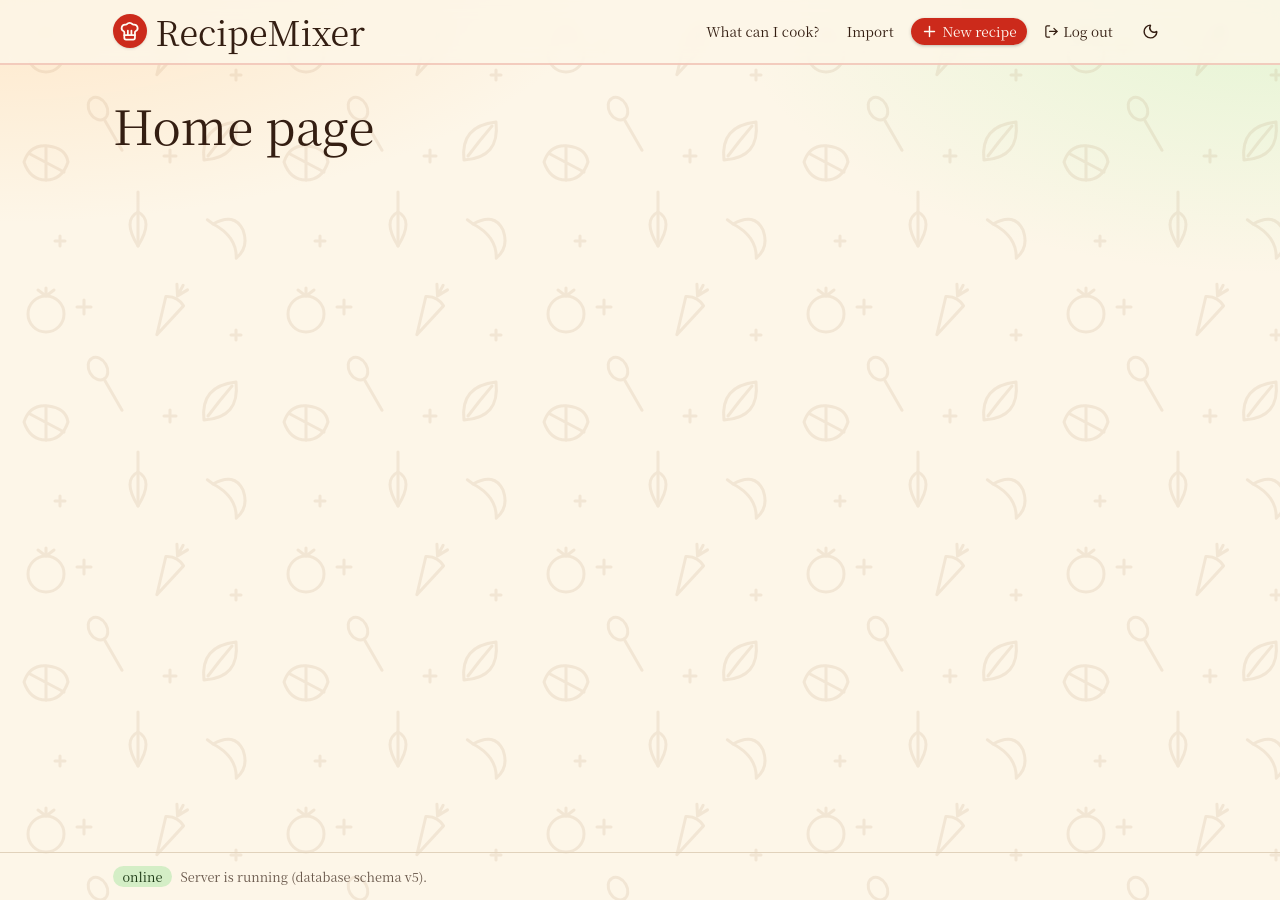
Test: Layout log out › says so, rather than pretending, when the server could not be told
Click the button "Log out" at (1078, 32), box [1032, 17, 1124, 46]
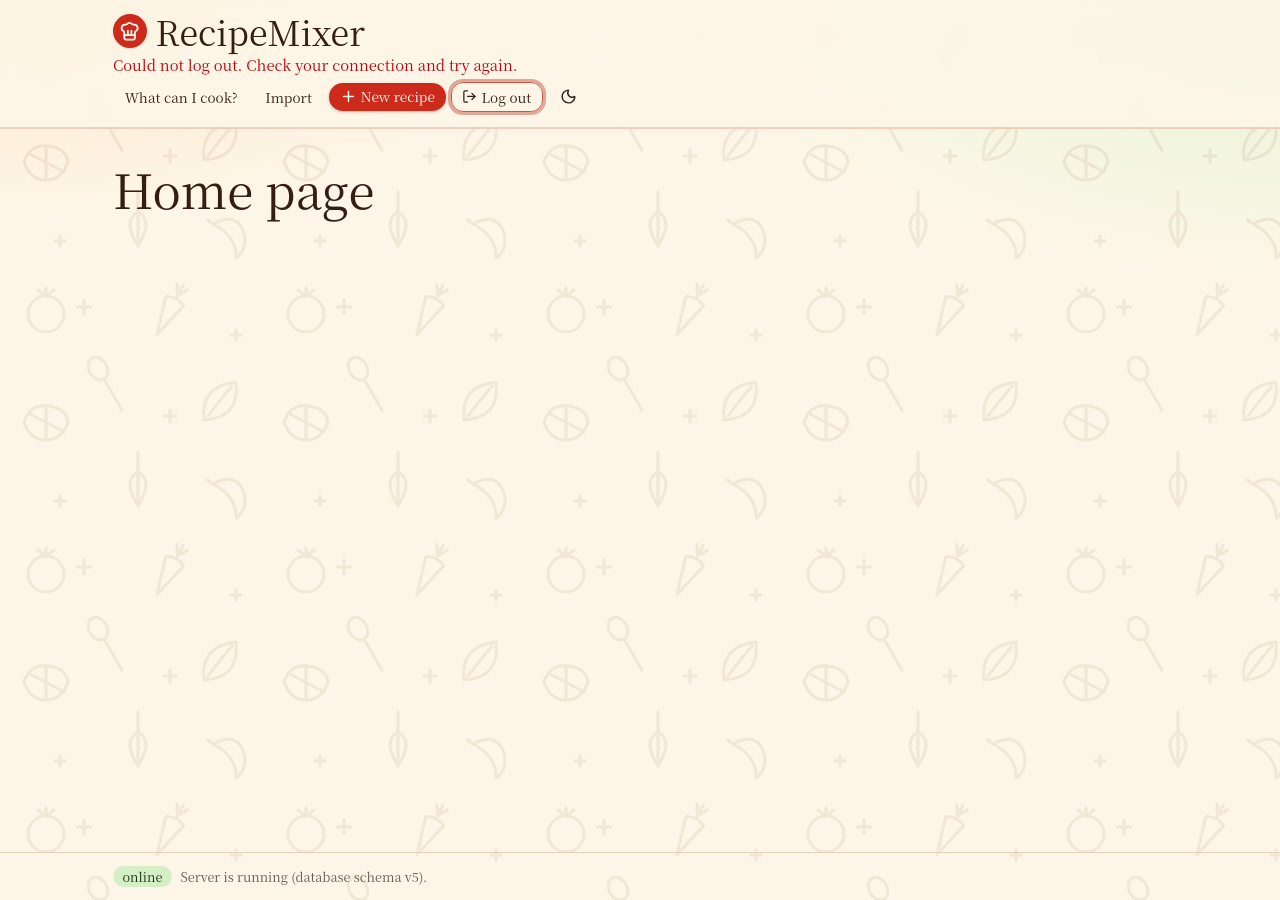
Expected: the message "Could not log out. Check your connection and try again." is shown, [113, 54, 518, 75]
